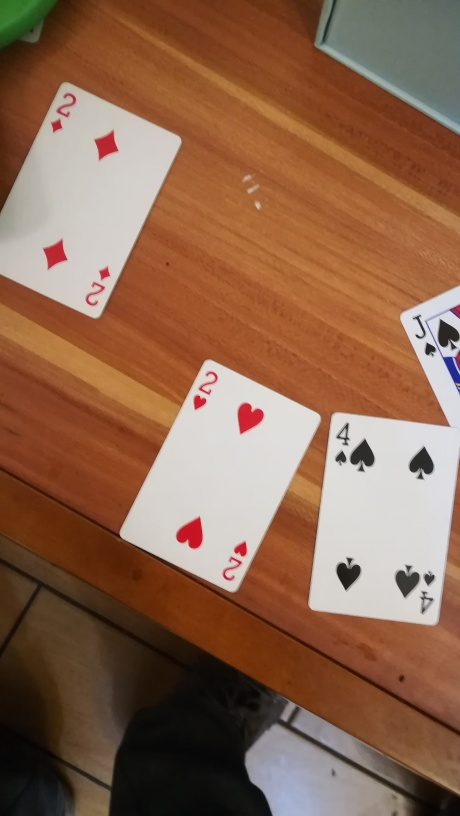fk 2: (1, 77, 185, 326)
ht 4: (311, 409, 460, 634)
hx 2: (119, 350, 320, 618)
